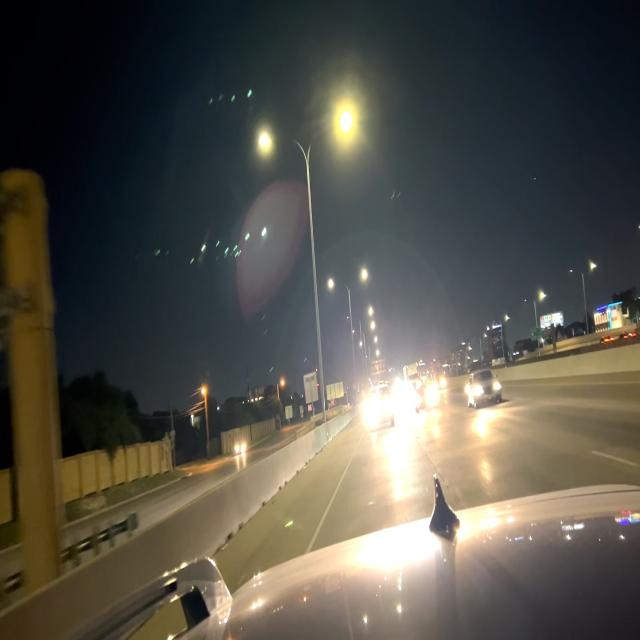back-of-sign: (303, 371, 320, 408), (326, 381, 346, 401), (371, 357, 386, 377)
